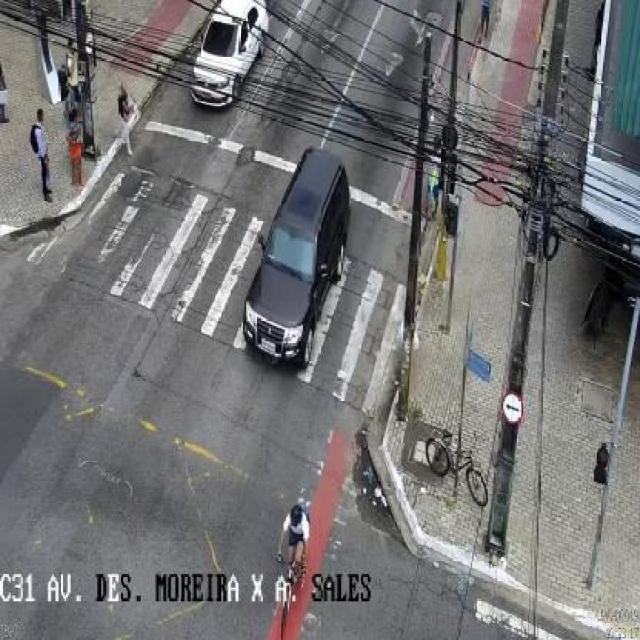Car: (239, 144, 353, 373), (187, 0, 271, 113)
Cycle: (424, 427, 491, 509), (273, 555, 310, 639)
